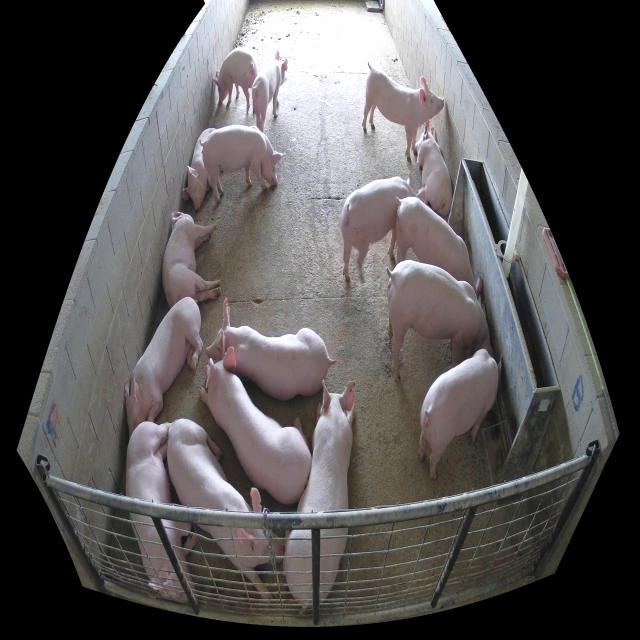pig: (168, 418, 282, 600), (198, 345, 312, 506), (282, 377, 356, 609), (126, 416, 204, 605), (206, 295, 329, 399), (387, 259, 490, 381), (417, 348, 502, 481), (125, 299, 203, 438), (342, 173, 428, 285), (396, 199, 482, 300), (362, 61, 444, 162), (202, 125, 284, 203), (162, 211, 221, 307), (415, 120, 452, 215), (212, 47, 258, 114), (252, 49, 289, 132), (181, 128, 216, 212)
